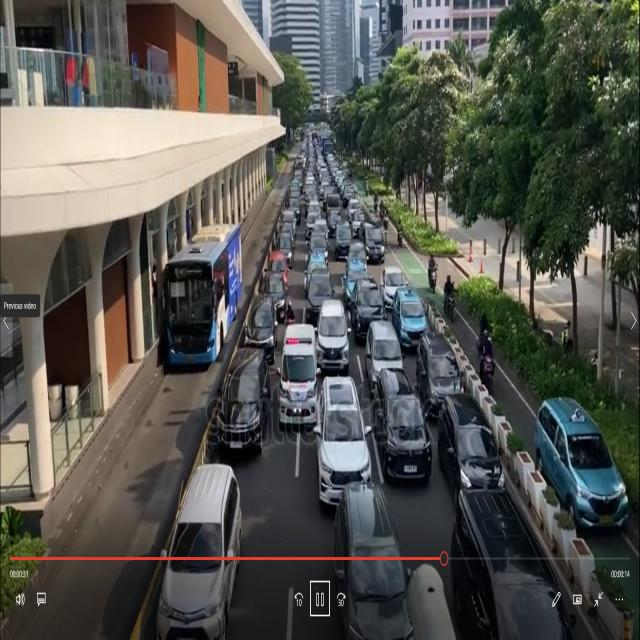Ambulance: (277, 302, 323, 430)
